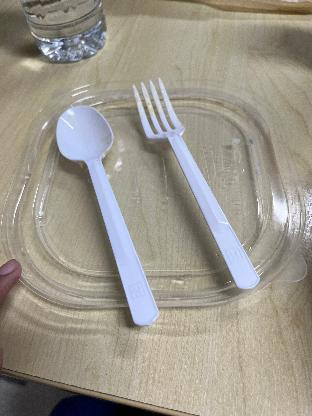Others: (36, 102, 188, 328), (119, 83, 269, 291)
